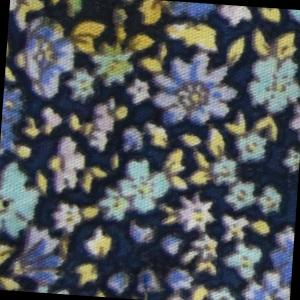Oil Stain: (15, 1, 175, 68)
